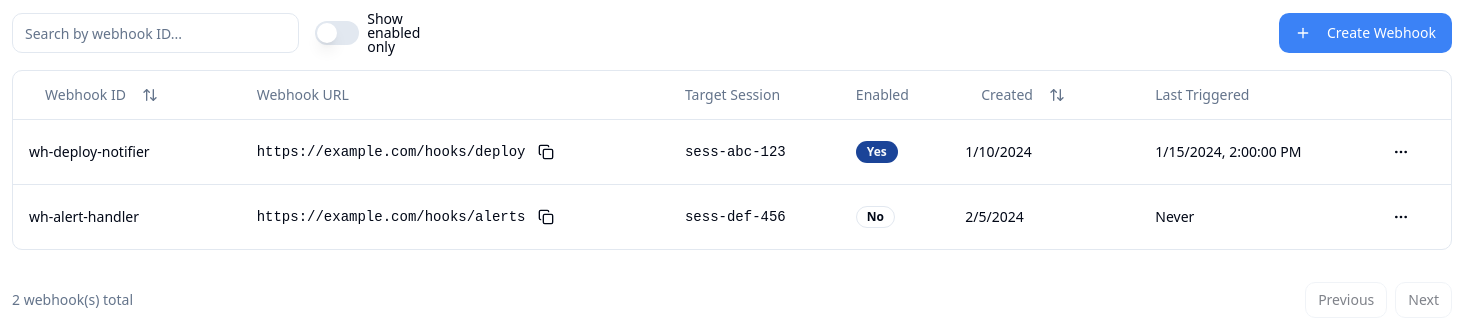
Scenario: WebhooksTable › search input filters webhooks
In the field with placeholder "Search by webhook ID...": coordinates (156, 33) left=12, top=13, right=299, bottom=53, type "deploy"
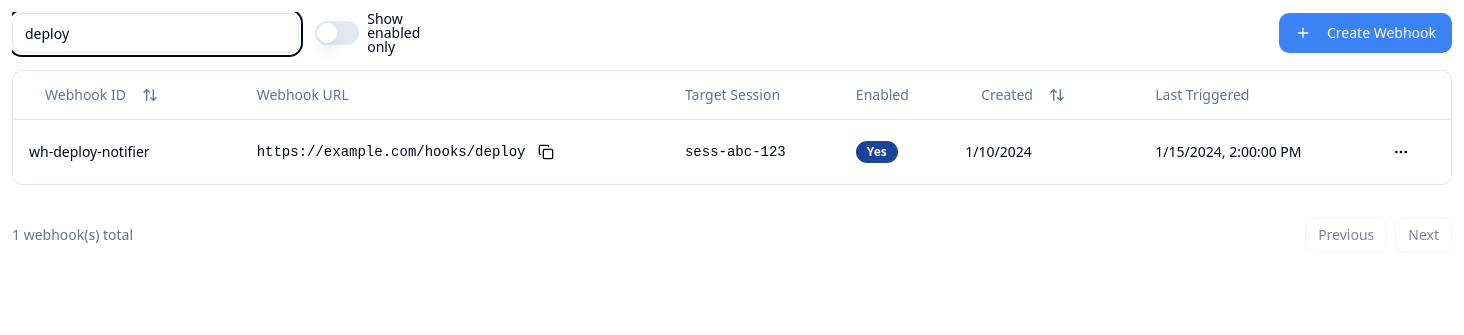
Expected: the text "wh-deploy-notifier" is shown, left=29, top=142, right=150, bottom=160
Expected: the text "wh-alert-handler" is gone
